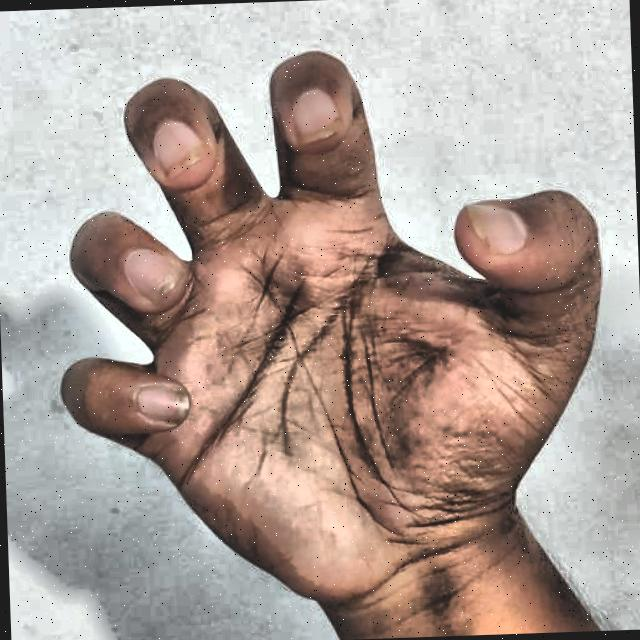Ja: (29, 15, 624, 640)
